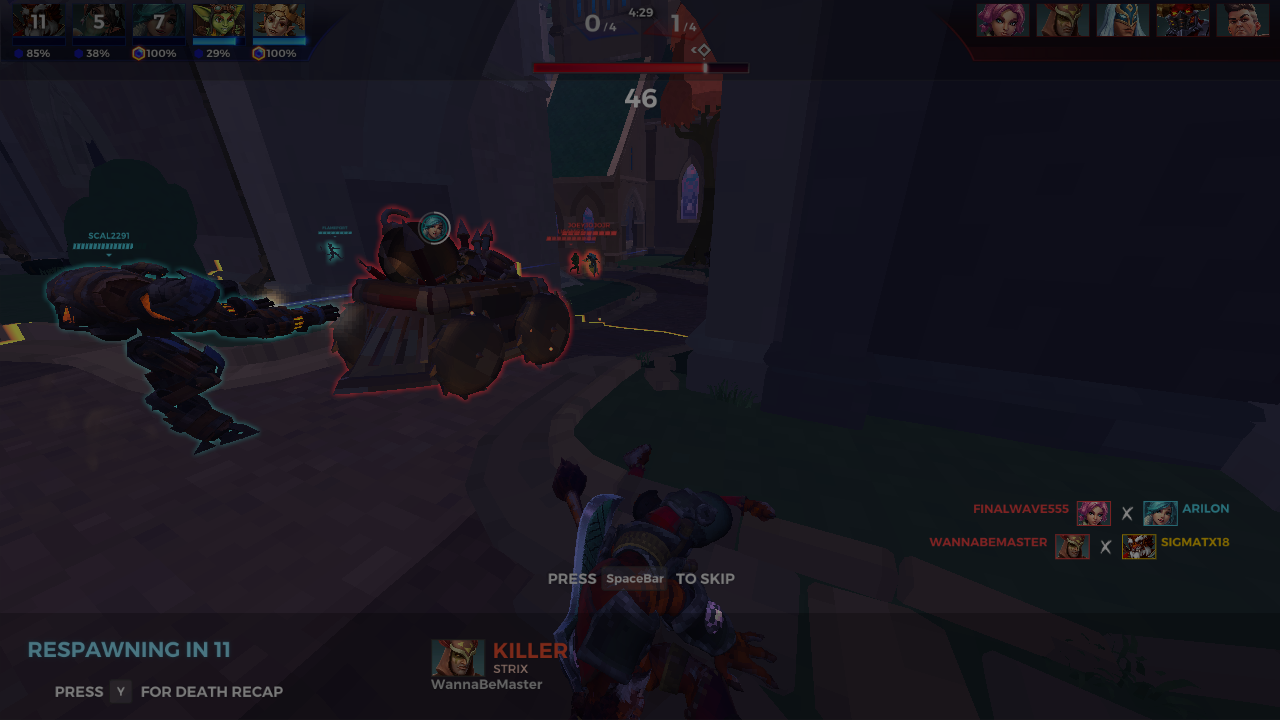model: (586, 248, 601, 277), (568, 252, 579, 278)
